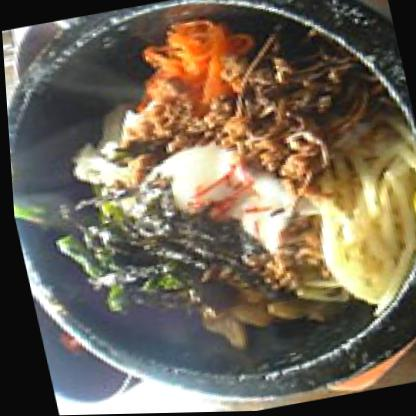bibimbap: (14, 0, 415, 378)
